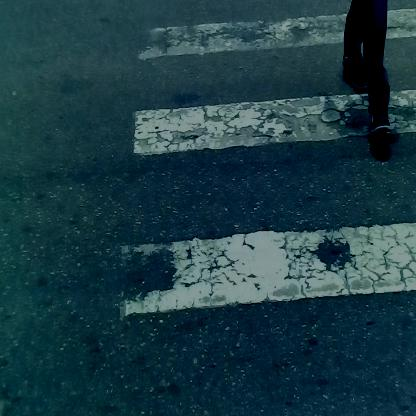crosswalk: (122, 13, 416, 386)
